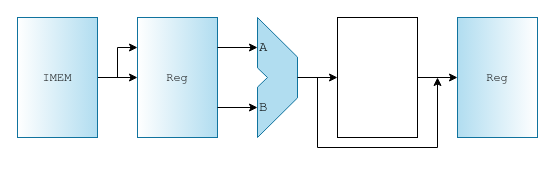
This 555x173 diagram has some shape labels left out. The box of each missing label's shape, as (x1, y1, x2, y2) in pixels:
ALU: (256, 16, 298, 138)
DMEM: (336, 16, 418, 138)
